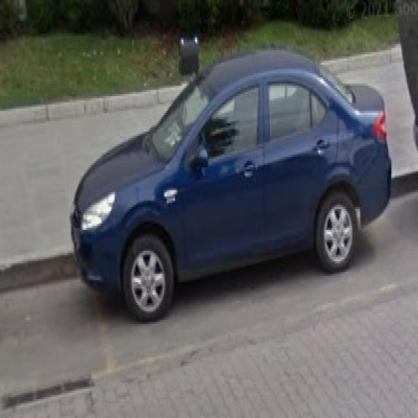car: (72, 40, 392, 327)
